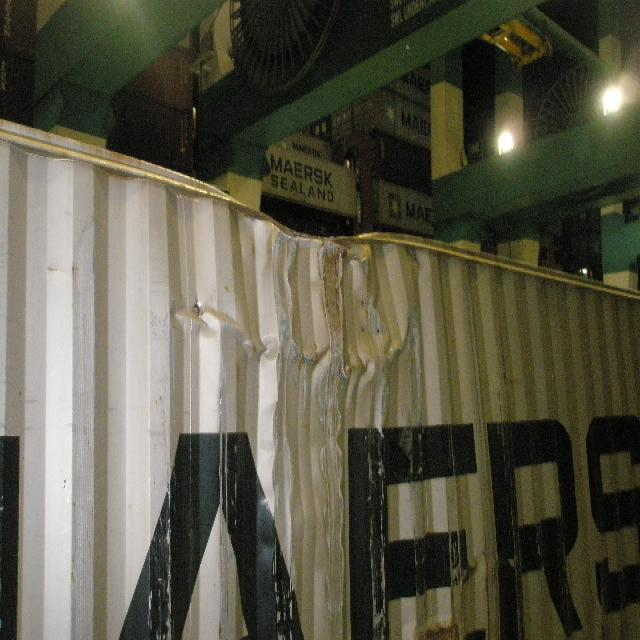dent: (169, 302, 430, 391), (211, 183, 390, 278), (306, 398, 345, 640), (260, 232, 363, 308)
